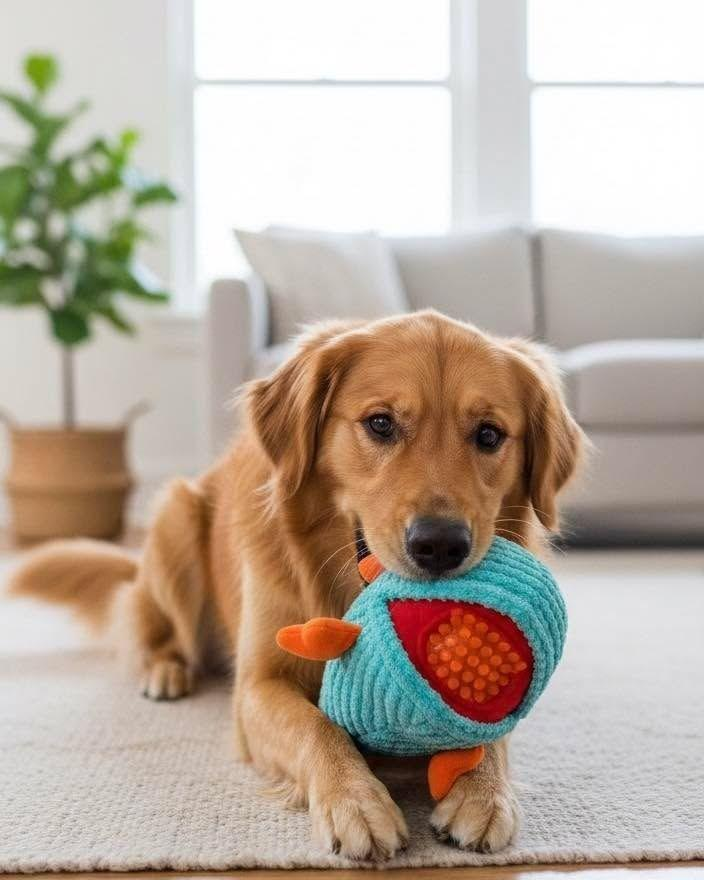adult_dog: (7, 309, 590, 863)
